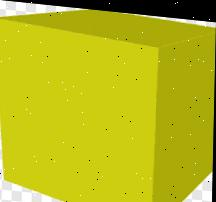cube: (0, 1, 216, 202)
